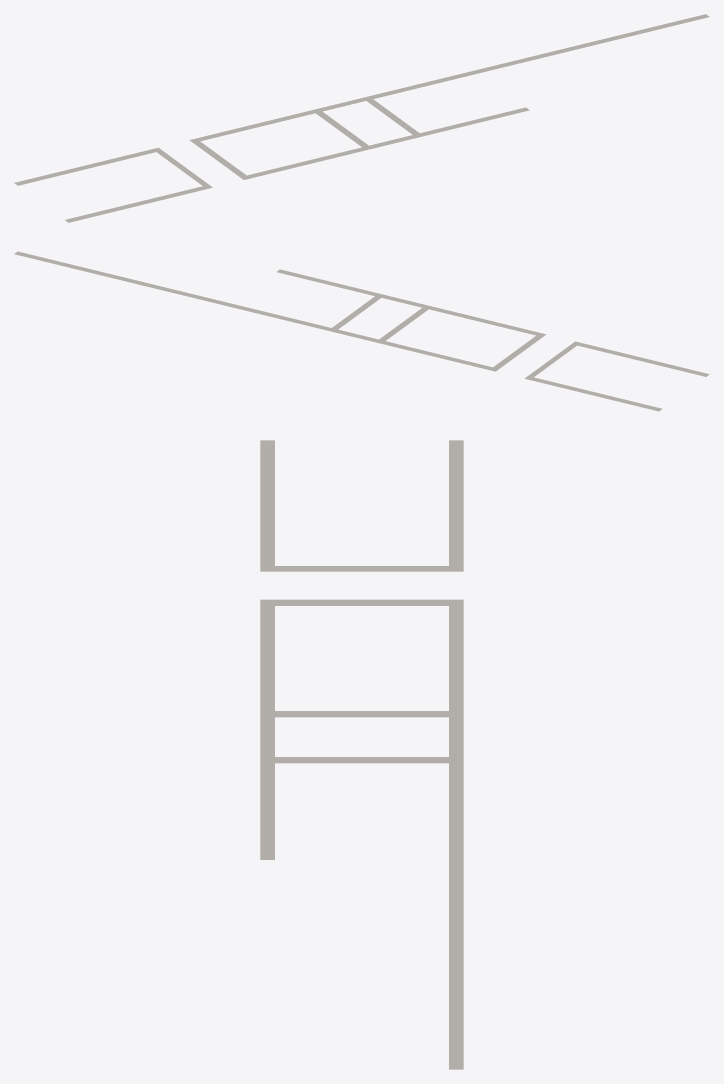
Rendered from White_Road001.fbx.
3 renders of one model, top to bottom at view 1: azimuth 30°, elevation 25°; view 2: azimuth 150°, elevation 25°; view 3: azimuth 270°, elevation 25°, orthographic. The views are drawn at different scales.
Visible parts, largest first — view 1: polySurface3496; view 2: polySurface3496; view 3: polySurface3496.
Boxes of the visible parts, x1=… form: polySurface3496: x1=14, y1=14, x2=709, y2=222; polySurface3496: x1=14, y1=251, x2=709, y2=411; polySurface3496: x1=260, y1=440, x2=463, y2=1069.
Size of the model in its own units: 7218 by 0.0294 by 986.
